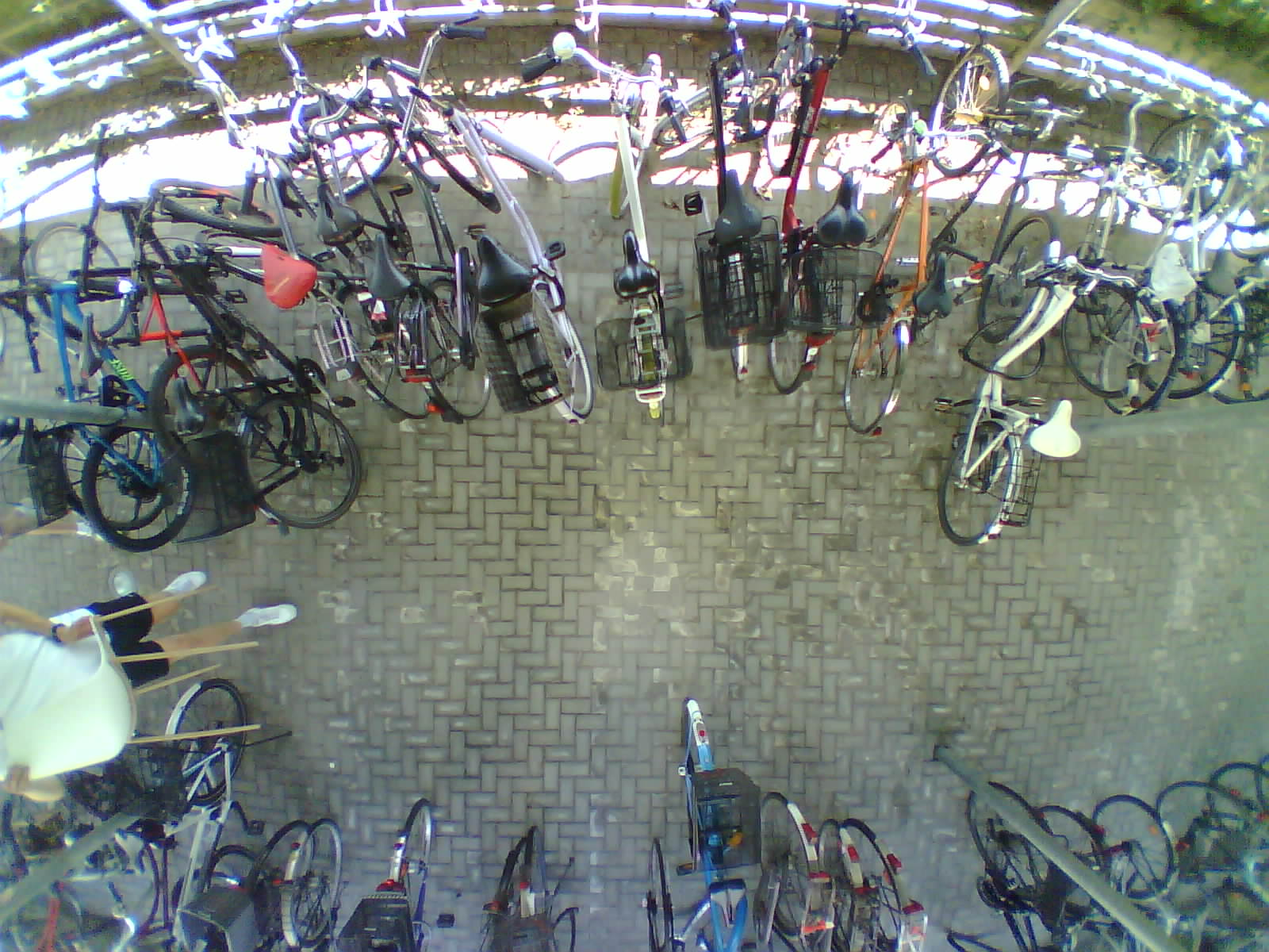bicylce: (943, 214, 1126, 548), (165, 239, 359, 528), (239, 120, 417, 420), (579, 34, 707, 421), (12, 222, 165, 523), (1008, 145, 1165, 402), (673, 1, 774, 396), (453, 99, 574, 425), (381, 71, 493, 423), (128, 184, 268, 465), (832, 121, 958, 430), (758, 25, 853, 395), (65, 253, 184, 548), (1138, 110, 1243, 398), (148, 681, 247, 952), (662, 698, 762, 951), (1106, 155, 1181, 414)
saddle: (812, 163, 872, 253), (469, 234, 540, 309), (254, 236, 323, 313), (707, 166, 768, 250), (1028, 386, 1085, 468), (308, 176, 367, 248), (608, 224, 663, 298), (358, 231, 416, 299), (907, 241, 954, 323), (1149, 241, 1198, 313), (67, 308, 113, 380), (169, 376, 206, 437), (53, 834, 106, 870), (1204, 247, 1242, 296), (16, 413, 48, 471)
